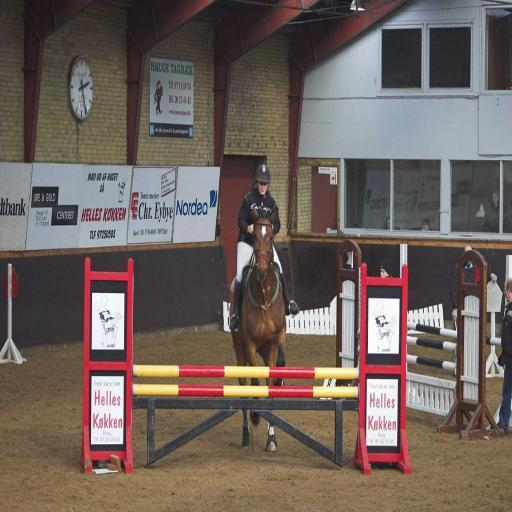horse: (228, 206, 288, 452)
